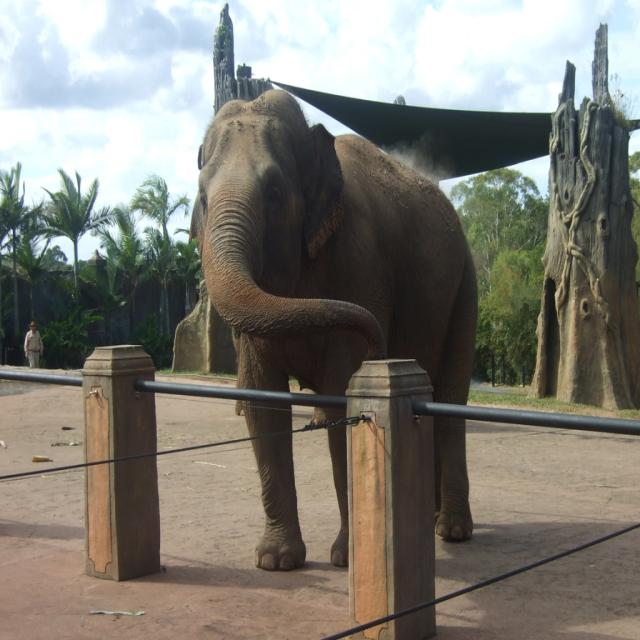Elephant: (189, 87, 479, 571)
person: (24, 320, 43, 368)
